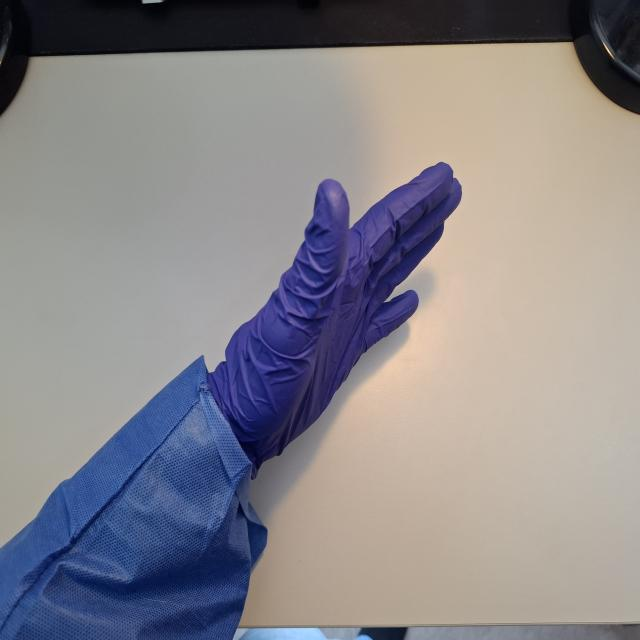glove_on: (201, 159, 465, 482)
